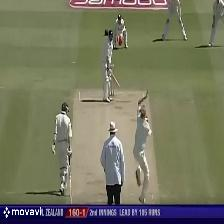batsman: (99, 28, 125, 107)
